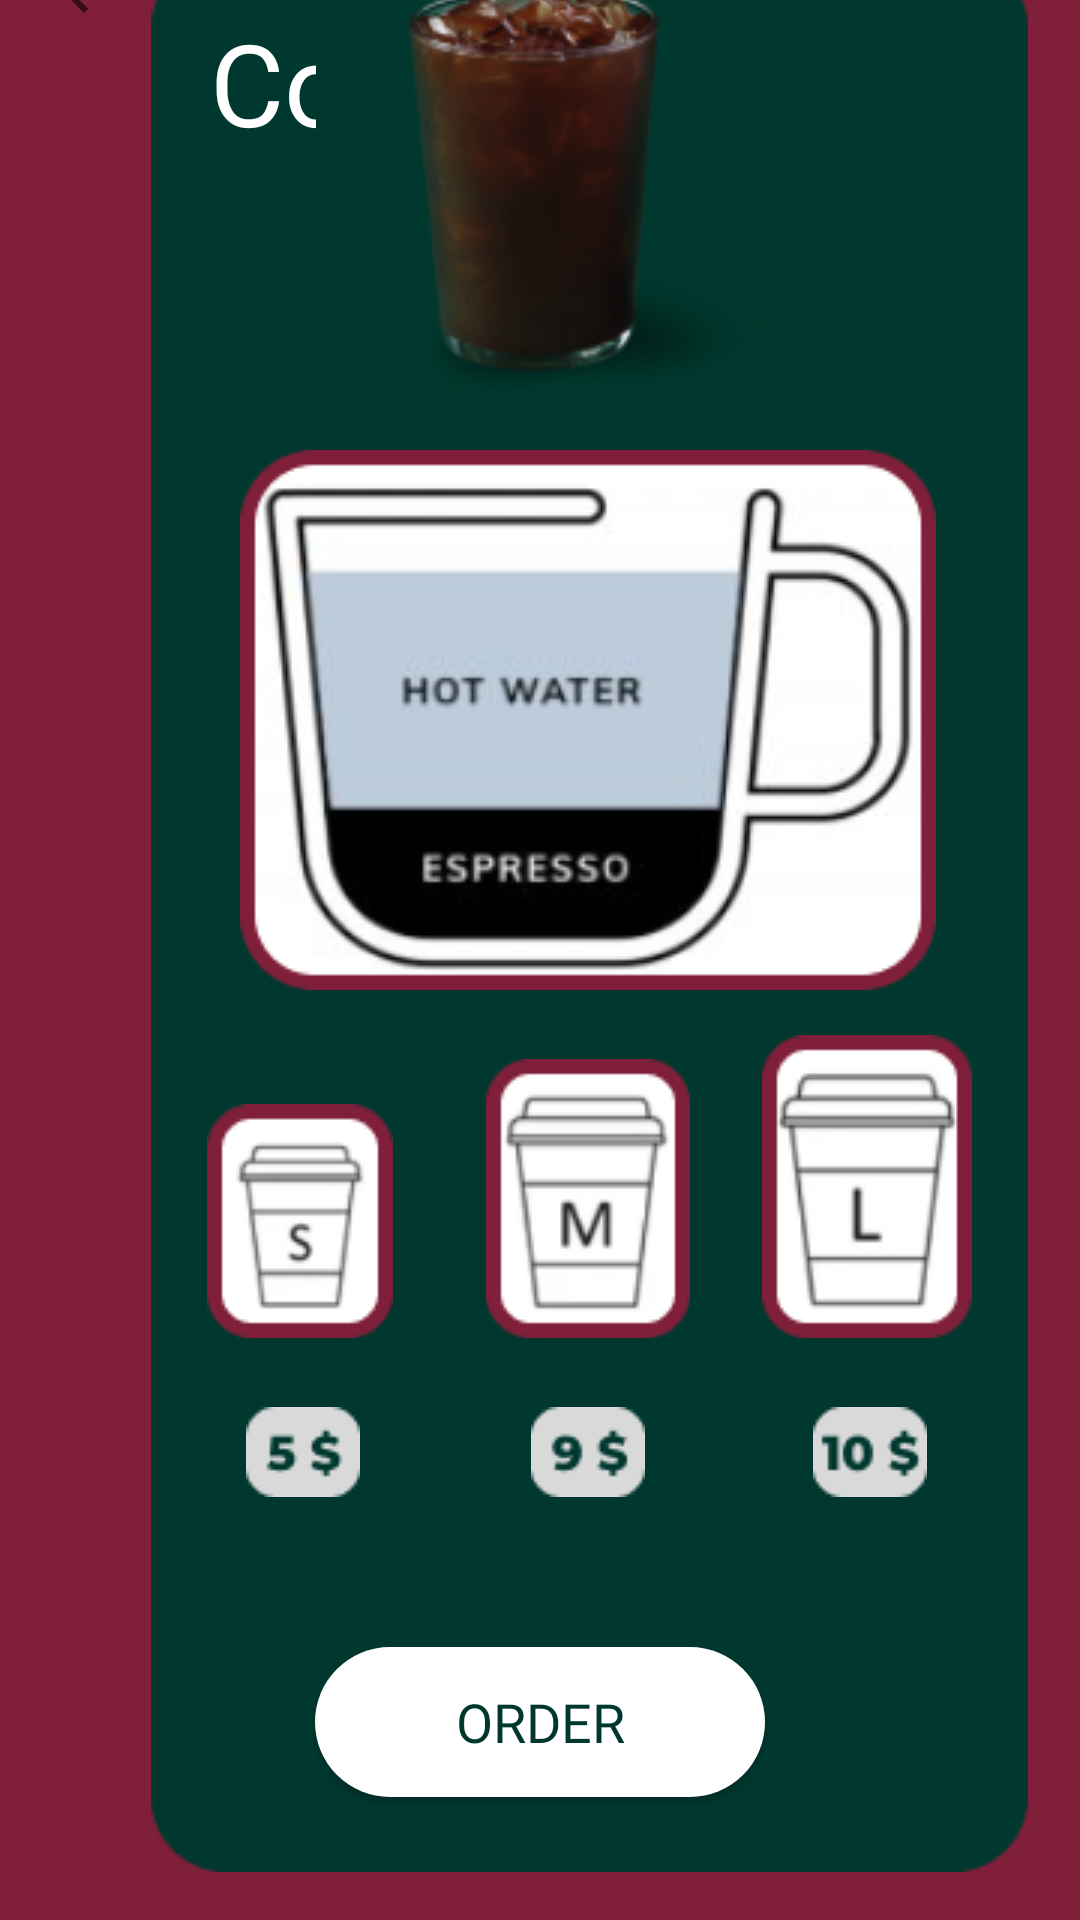

Named icons in this screenshot (1080w x 1920h) and their bounding boxes, (x1=x1, y1=y1, x2=x2, y2=y2):
size coffee: (x1=762, y1=1035, x2=972, y2=1338), (x1=486, y1=1059, x2=690, y2=1338), (x1=207, y1=1104, x2=393, y2=1338)
